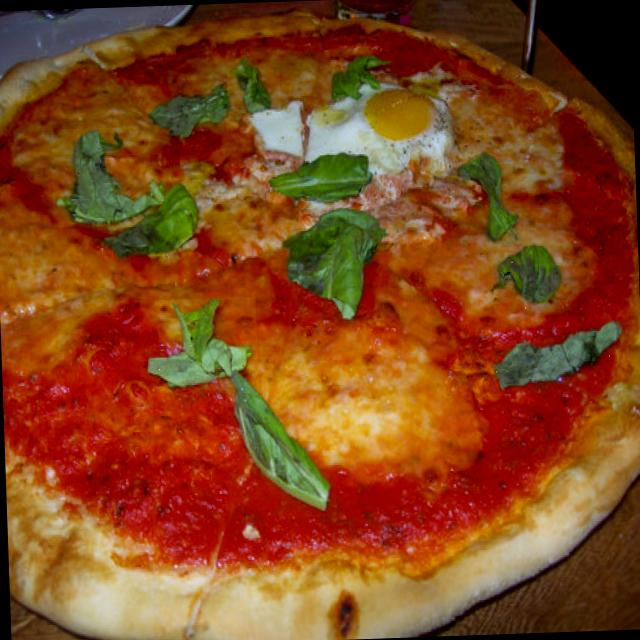basil: (224, 364, 336, 520), (286, 205, 388, 324), (138, 296, 258, 396), (50, 125, 162, 228), (488, 314, 628, 395), (107, 176, 203, 264), (458, 147, 521, 243), (264, 153, 372, 205), (492, 245, 564, 309), (226, 50, 280, 119), (150, 92, 228, 138), (330, 46, 390, 104)
pizza: (0, 14, 640, 640)
